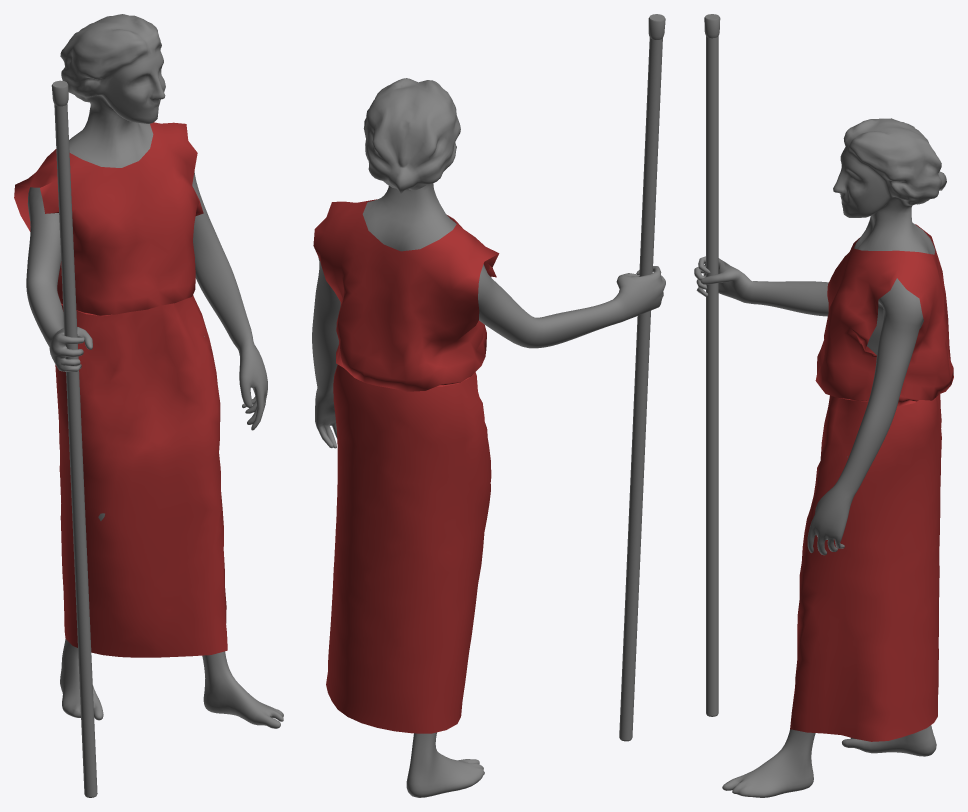
Rendered from SM_sculpture_athena.fbx.
3 renders of one model, left to right at view 1: azimuth 30°, elevation 25°; view 2: azimuth 150°, elevation 25°; view 3: azimuth 270°, elevation 25°, orthographic. The views are drawn at different scales.
Parts seen in each view (by area): view 1: 6565; view 2: 6565; view 3: 6565.
Boxes of the visible parts, <box> form: 6565: <box>14,14,283,797</box>; 6565: <box>312,14,665,797</box>; 6565: <box>694,14,953,797</box>.
Size of the model in its own units: 30.12 by 74.68 by 25.68.
